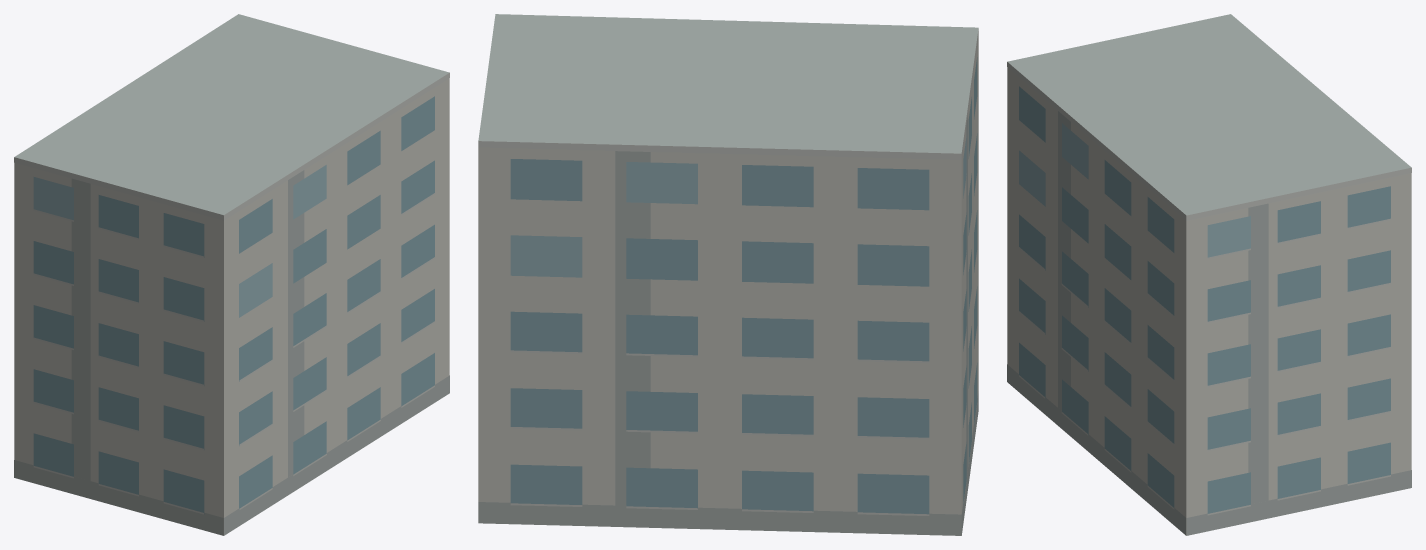
The model's file is survey-upis-32891430.glb.
3 views of the same model, side by side, from view 1: azimuth 30°, elevation 25°; view 2: azimuth 150°, elevation 25°; view 3: azimuth 270°, elevation 25° (orthographic). The views are drawn at different scales.
Parts seen in each view (by area): view 1: survey-upis-32891430.tmp; view 2: survey-upis-32891430.tmp; view 3: survey-upis-32891430.tmp.
Part boxes in pixels (<box>): survey-upis-32891430.tmp: <box>14,14,449,535</box>; survey-upis-32891430.tmp: <box>478,14,978,535</box>; survey-upis-32891430.tmp: <box>1007,14,1411,535</box>.
Bounding box in the file's own units: 19.44 × 14.4 × 16.49.
